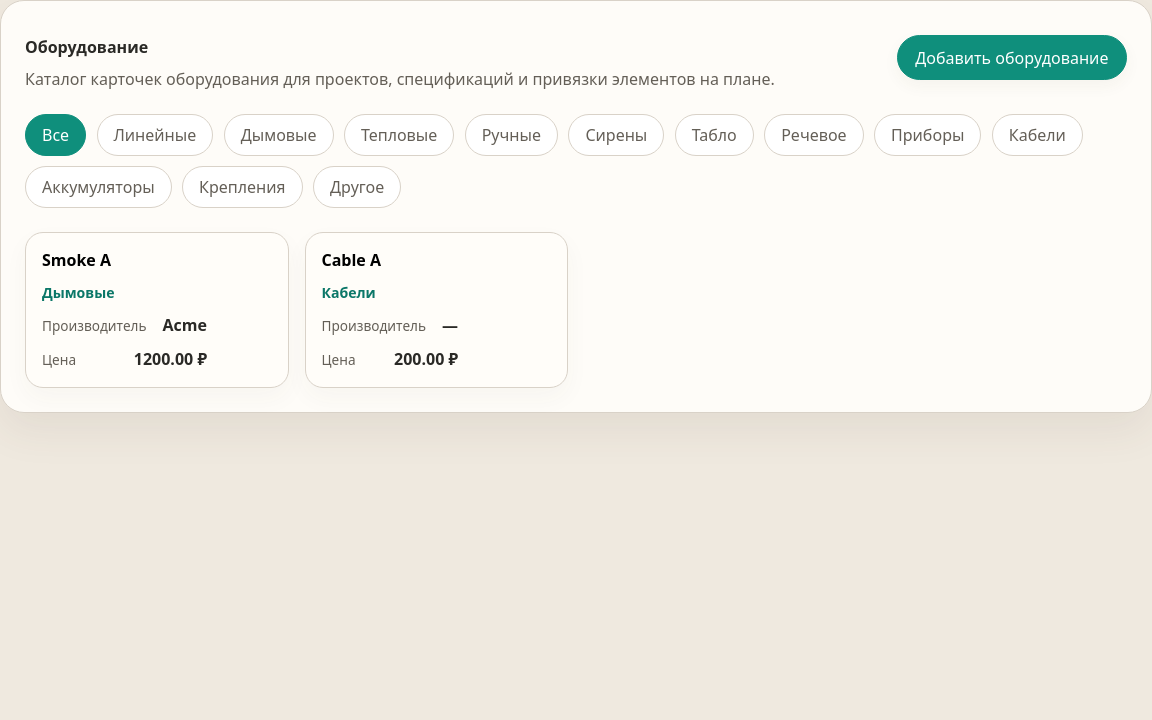
shows compact cards, detector addressing in filtered view, and keeps documents as open-only assets
The image size is (1152, 720).
Check: the heading "Оборудование" is shown, box [25, 36, 148, 58]
Check: the text "Дымовые" is shown, box [42, 283, 114, 302]
Click the button "Дымовые".
click(279, 135)  # box [224, 114, 334, 156]
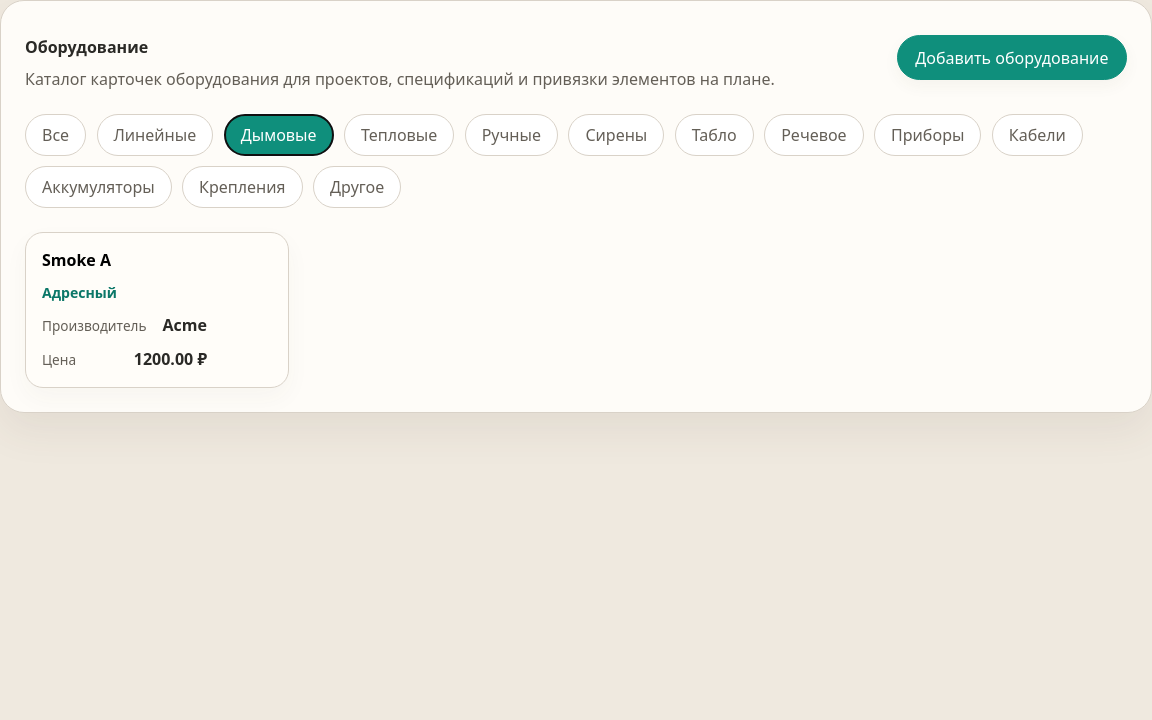
Check: the button "Smoke A Адресный Производитель Acme Цена 1200.00 ₽" is shown, box [25, 232, 288, 388]
Check: the button "Cable A" is gone
Check: the text "Адресный" is shown, box [42, 283, 117, 302]
Click the button "Все".
click(56, 135)  # box [25, 114, 86, 156]
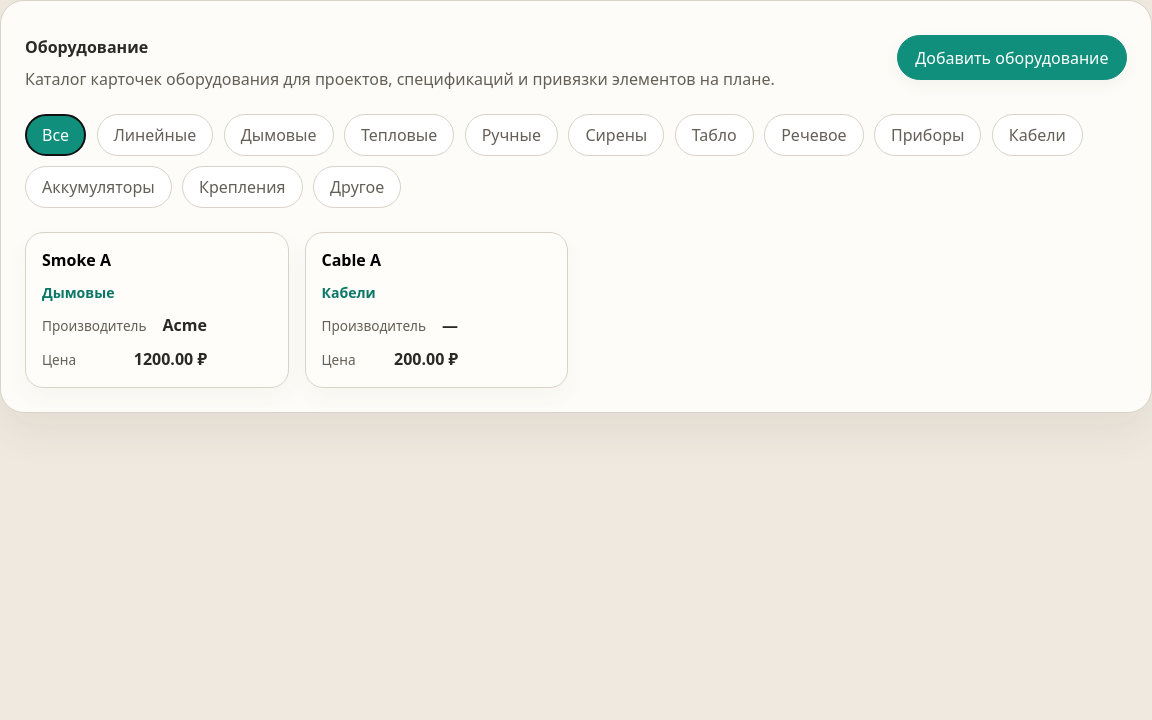
Check: the button "Cable A Кабели Производитель — Цена 200.00 ₽" is shown, box [304, 232, 568, 388]
Click the button "Smoke A Дымовые Производитель Acme Цена 1200.00 ₽".
click(77, 260)  # box [25, 232, 288, 388]
(page scrolled)
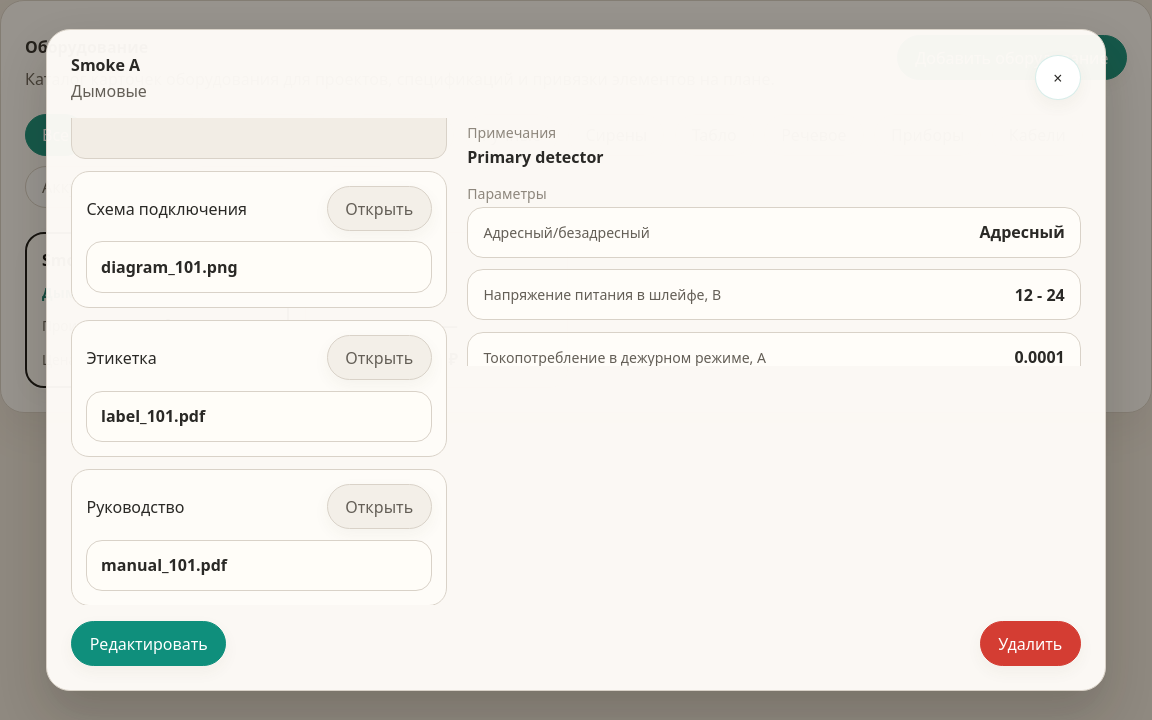
Check: the dialog "Smoke A" is shown
Check: the text "label_101.pdf" is shown, box [101, 405, 205, 427]
Check: the text "manual_101.pdf" is shown, box [101, 554, 227, 576]
